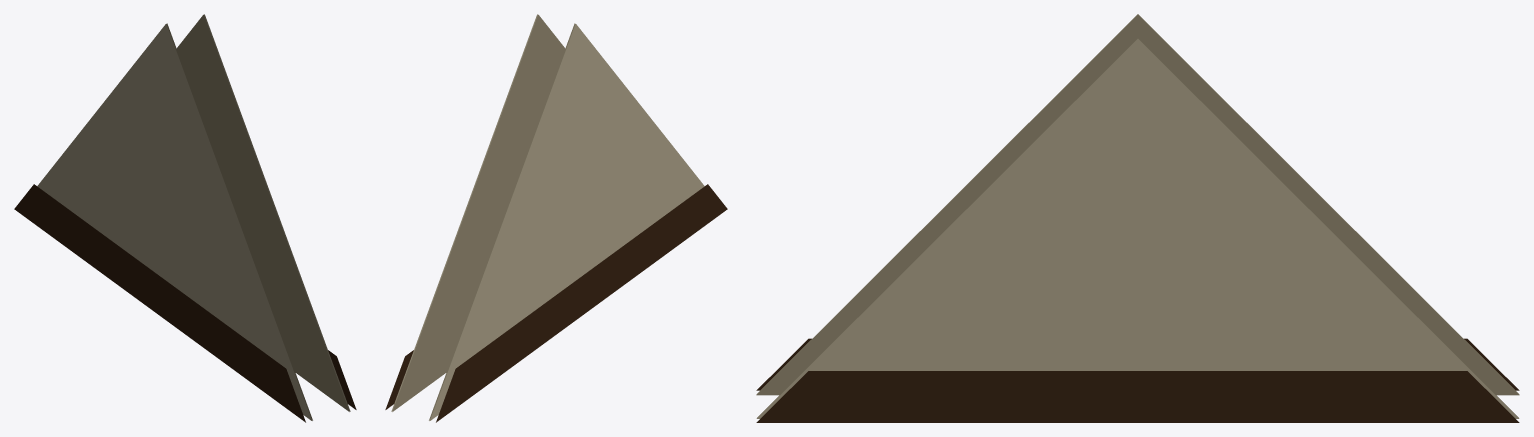
Rendered from wall-halftimber-gable-peak-steep.glb.
3 renders of one model, left to right at view 1: azimuth 30°, elevation 25°; view 2: azimuth 150°, elevation 25°; view 3: azimuth 270°, elevation 25°, orthographic. The views are drawn at different scales.
Visible parts, largest first — view 1: wall-halftimber-gable-peak-steep; view 2: wall-halftimber-gable-peak-steep; view 3: wall-halftimber-gable-peak-steep.
Part boxes in pixels (box(x1,y1,x2,y2)): wall-halftimber-gable-peak-steep: box(14, 14, 356, 422); wall-halftimber-gable-peak-steep: box(385, 14, 727, 422); wall-halftimber-gable-peak-steep: box(756, 14, 1519, 422).
Size of the model in its own units: 0.1 by 0.55 by 1.
